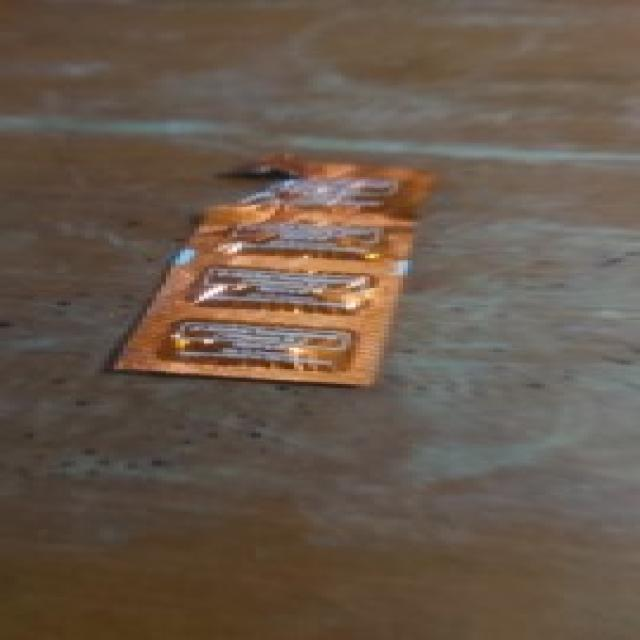Cacat: (106, 156, 441, 384)
Kemasan: (201, 158, 346, 214)
